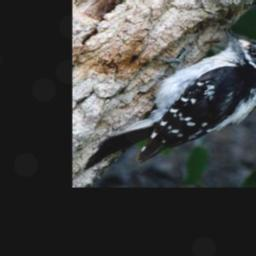Woodpecker: (80, 28, 256, 169)
